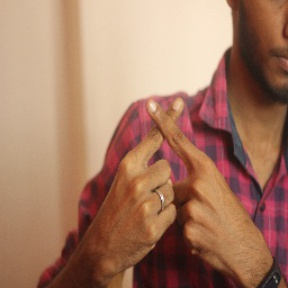X: (116, 87, 225, 209)
